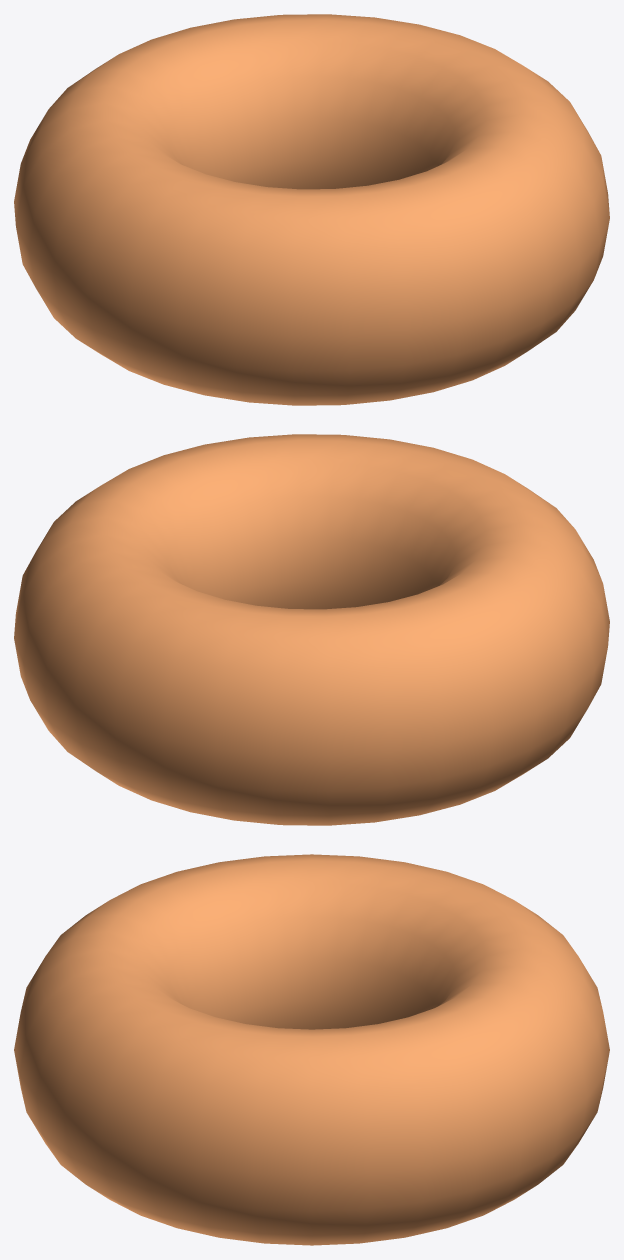
File: Donut_A_04.fbx
3 views of the same model, one above another, from view 1: azimuth 30°, elevation 25°; view 2: azimuth 150°, elevation 25°; view 3: azimuth 270°, elevation 25° (orthographic).
Parts seen in each view (by area): view 1: Donut_A_04_LOD0; view 2: Donut_A_04_LOD0; view 3: Donut_A_04_LOD0.
Boxes of the visible parts, x1,y1,x2,y2 form: Donut_A_04_LOD0: [14, 14, 609, 405]; Donut_A_04_LOD0: [14, 434, 609, 825]; Donut_A_04_LOD0: [14, 854, 609, 1245].
Size of what is drawn, in the model's own units: 553 by 207 by 553.
